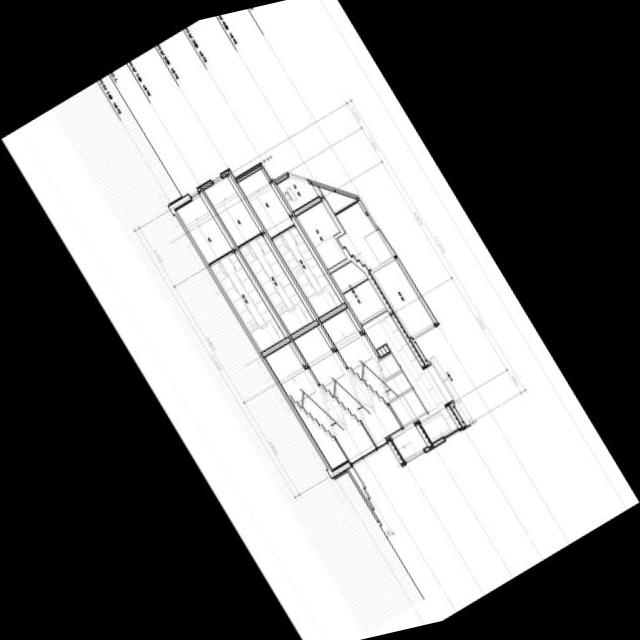background: (1, 0, 639, 640)
space_bedroom: (369, 256, 437, 337), (203, 174, 264, 248), (175, 191, 235, 266), (237, 168, 296, 241)
space_kitchen: (208, 248, 288, 352), (238, 231, 316, 335), (272, 222, 344, 318)
space_multipurpose_space: (330, 261, 385, 326)
space_other: (391, 423, 427, 460), (318, 186, 356, 212)
space_staircase: (321, 307, 457, 443), (263, 341, 376, 463), (293, 324, 402, 447), (287, 396, 348, 471), (335, 198, 396, 271)
space_toilet: (295, 201, 346, 269), (276, 177, 318, 211)
